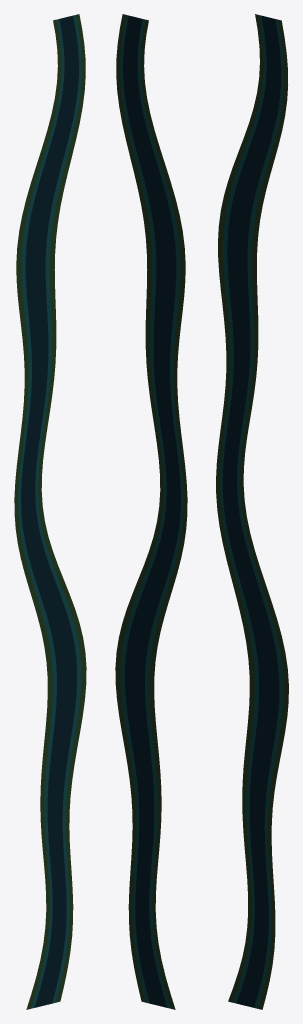
The model's file is SM_ForestRiver.obj.
3 renders of one model, left to right at view 1: azimuth 30°, elevation 25°; view 2: azimuth 150°, elevation 25°; view 3: azimuth 330°, elevation 25°, orthographic.
Parts seen in each view (by area): view 1: SM_ForestRiver; view 2: SM_ForestRiver; view 3: SM_ForestRiver.
Boxes of the visible parts, bbox=[...] form: SM_ForestRiver: bbox=[14, 14, 86, 1009]; SM_ForestRiver: bbox=[115, 14, 187, 1009]; SM_ForestRiver: bbox=[216, 14, 288, 1009].
Size of the model in its own units: 773 by 10080 by 0.
